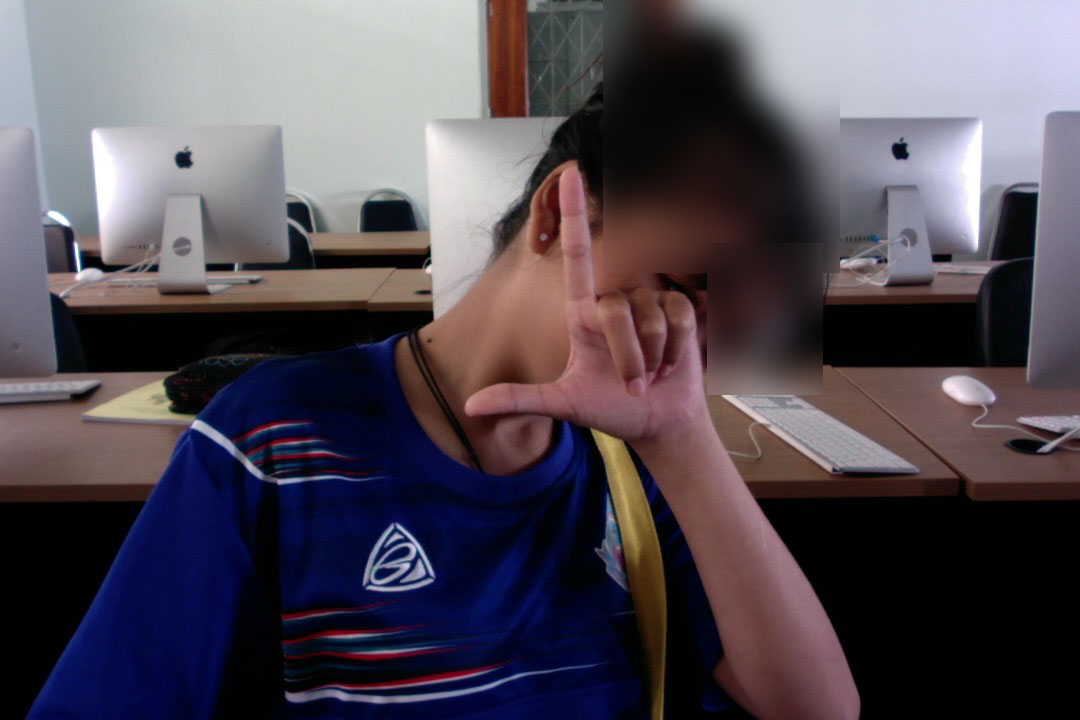lor: (436, 147, 735, 447), (453, 151, 743, 455), (442, 151, 735, 445), (458, 165, 731, 442)
